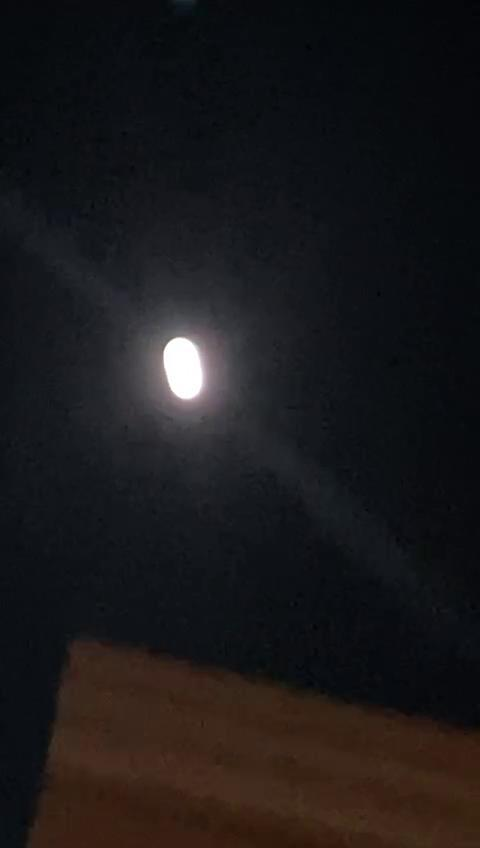moon: (152, 328, 220, 404)
